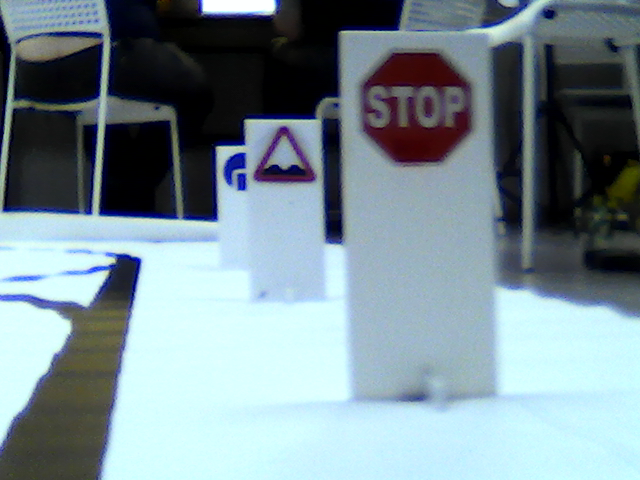Nerov: (253, 124, 317, 183)
Stop: (361, 44, 478, 177)
